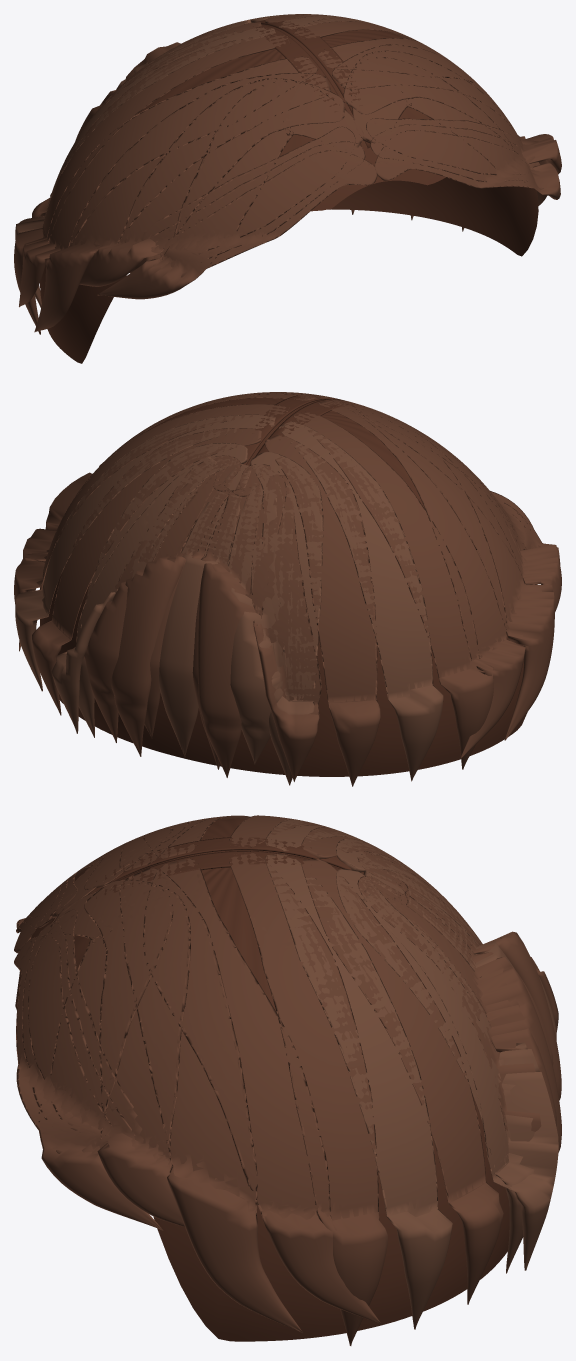
The model's file is Masculine-middle-part-cap251-hair.glb.
3 renders of one model, top to bottom at view 1: azimuth 30°, elevation 25°; view 2: azimuth 150°, elevation 25°; view 3: azimuth 270°, elevation 25°, orthographic. The views are drawn at different scales.
Visible parts, largest first — view 1: 226 hair / Hair / chestnut226.002, 226 hair / Hair / recessed roots251.002, 226 hair / Hair / main251.001, 226 hair / Hair / accent251.001, 226 hair / Hair / recessed roots251.003; view 2: 226 hair / Hair / main251.001, 226 hair / Hair / accent251.001, 226 hair / Hair / chestnut226.002, 226 hair / Hair / recessed roots251.002, 226 hair / Hair / recessed roots251.003; view 3: 226 hair / Hair / chestnut226.002, 226 hair / Hair / main251.001, 226 hair / Hair / accent251.001, 226 hair / Hair / recessed roots251.002, 226 hair / Hair / recessed roots251.003.
Part boxes in pixels (left/top/right/bottom): 226 hair / Hair / chestnut226.002: left=19, top=38, right=561, bottom=332; 226 hair / Hair / recessed roots251.002: left=40, top=24, right=538, bottom=363; 226 hair / Hair / main251.001: left=14, top=14, right=464, bottom=334; 226 hair / Hair / accent251.001: left=15, top=14, right=413, bottom=307; 226 hair / Hair / recessed roots251.003: left=253, top=20, right=370, bottom=148; 226 hair / Hair / main251.001: left=14, top=404, right=493, bottom=786; 226 hair / Hair / accent251.001: left=15, top=414, right=443, bottom=785; 226 hair / Hair / chestnut226.002: left=19, top=392, right=561, bottom=758; 226 hair / Hair / recessed roots251.002: left=40, top=398, right=527, bottom=776; 226 hair / Hair / recessed roots251.003: left=243, top=394, right=355, bottom=465; 226 hair / Hair / chestnut226.002: left=14, top=815, right=381, bottom=1333; 226 hair / Hair / main251.001: left=229, top=815, right=561, bottom=1345; 226 hair / Hair / accent251.001: left=265, top=819, right=558, bottom=1329; 226 hair / Hair / recessed roots251.002: left=15, top=818, right=509, bottom=1341; 226 hair / Hair / recessed roots251.003: left=51, top=837, right=363, bottom=922.
Bounding box in the file's own units: 1.07 × 0.5734 × 0.7871.
